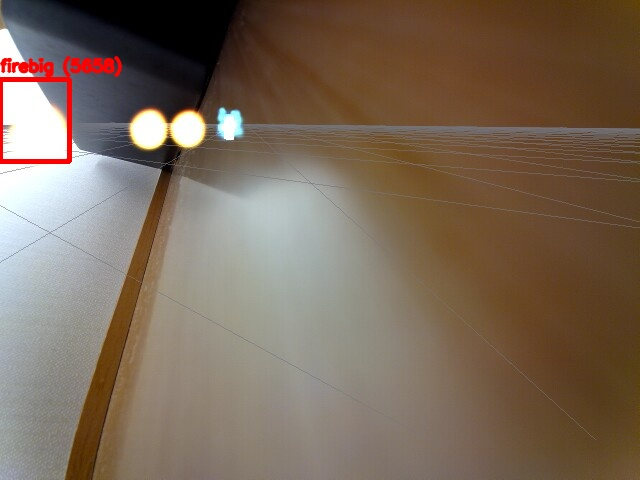firebig: (0, 79, 69, 161)
